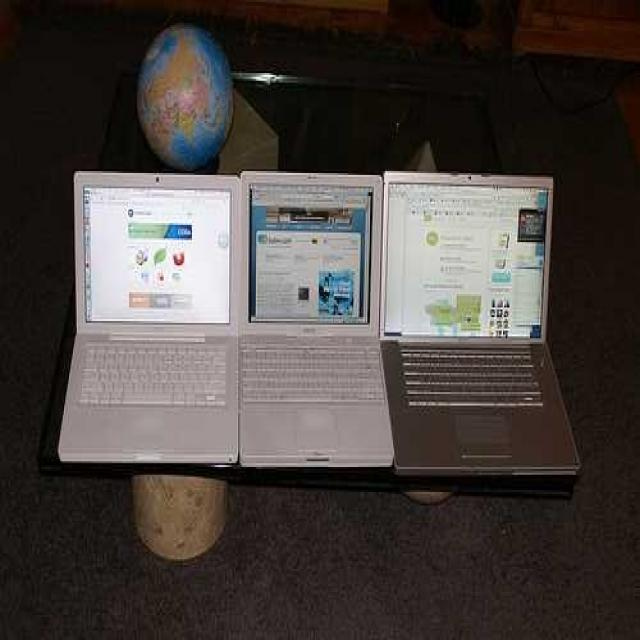laptop: (67, 175, 238, 467), (244, 172, 384, 473)
